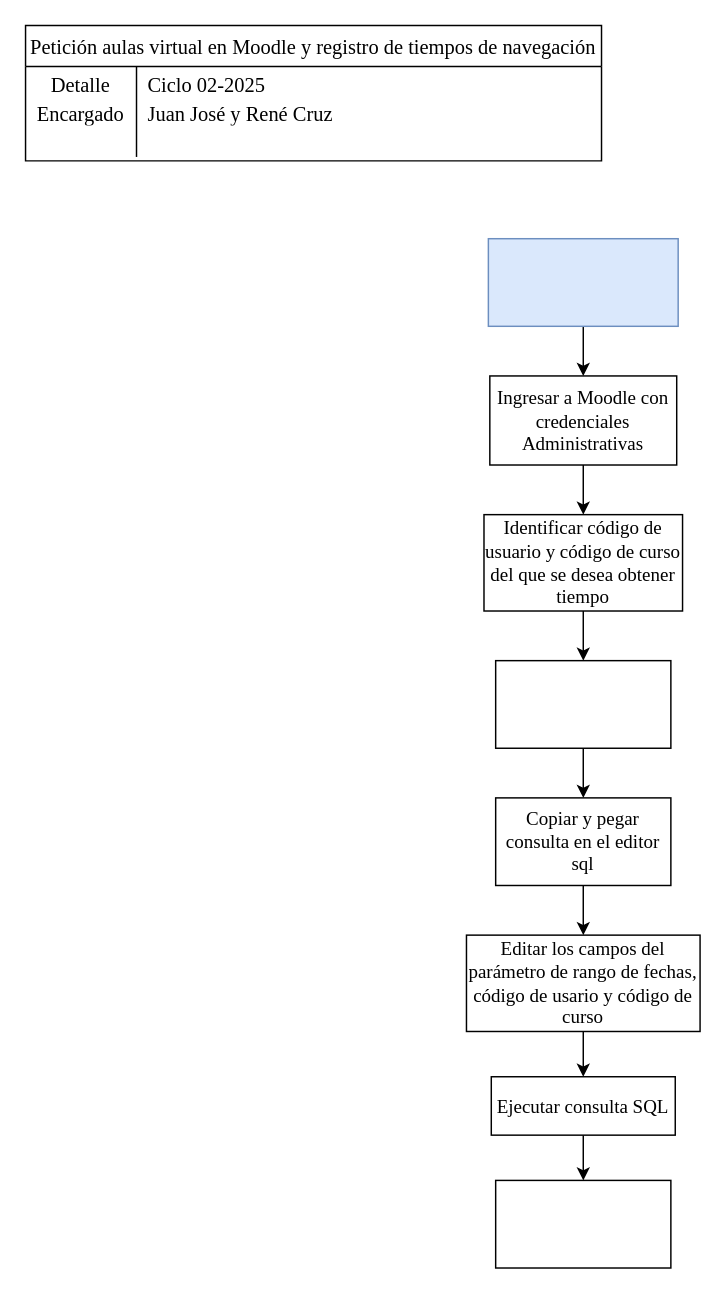
Image size: 726x1294. Some labels were removed from this diagram. The centre of each missing label's shape, as x and y in pixels:
"Ingresar a la base de daos del Moodle correspondiente" belongs at (x=582, y=703).
"Obtención de los tiempso de navegación cualquier Moodle" belongs at (x=582, y=281).
"Trasladar datos obtenidos a reporte en Excel" belongs at (x=582, y=1223).
